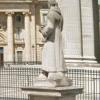Statue: (29, 4, 72, 90)
